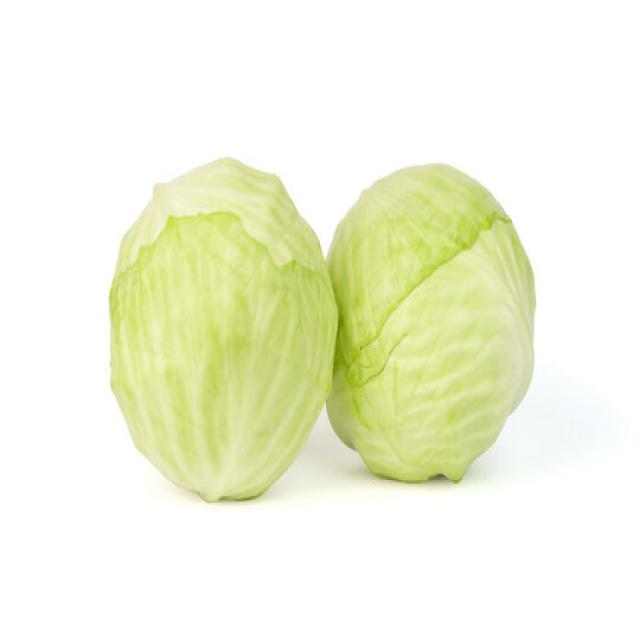Cabbage: (108, 155, 339, 503), (324, 160, 536, 484)
